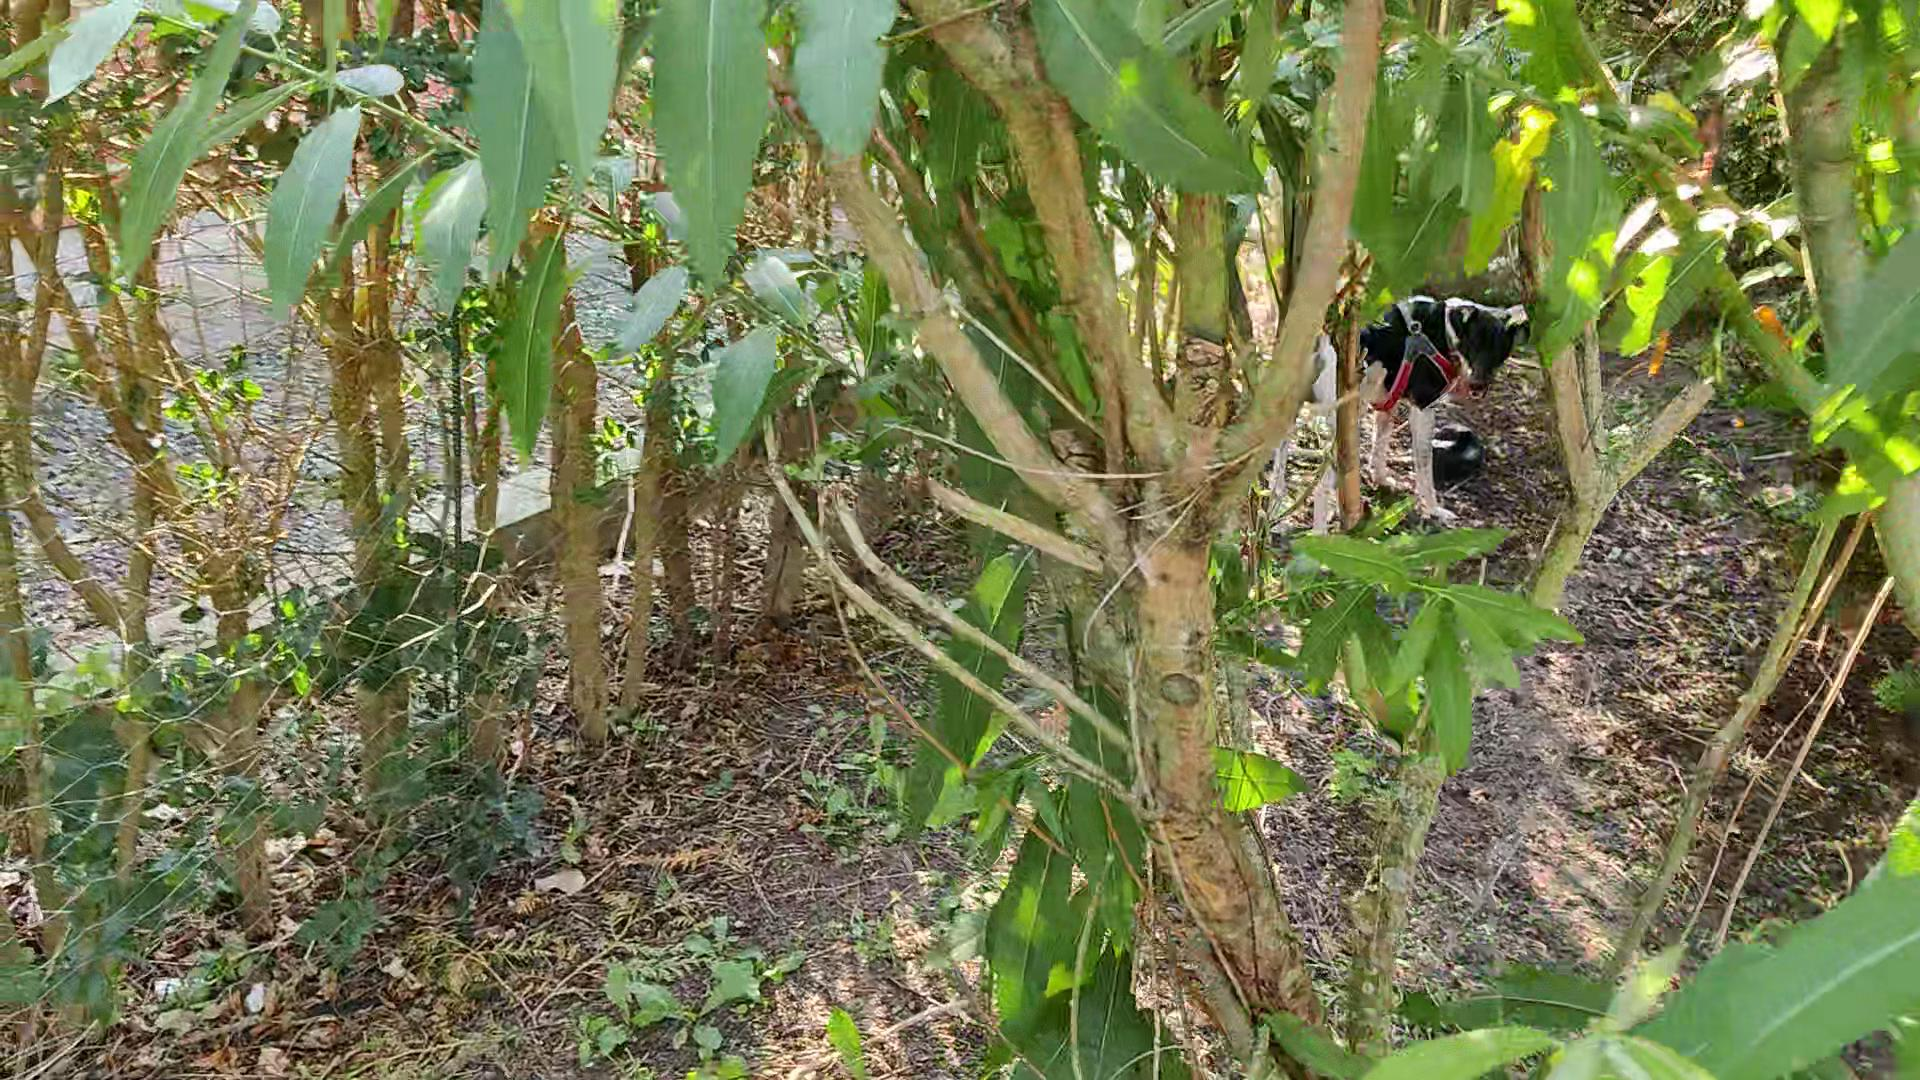Dog: (1240, 285, 1538, 547)
